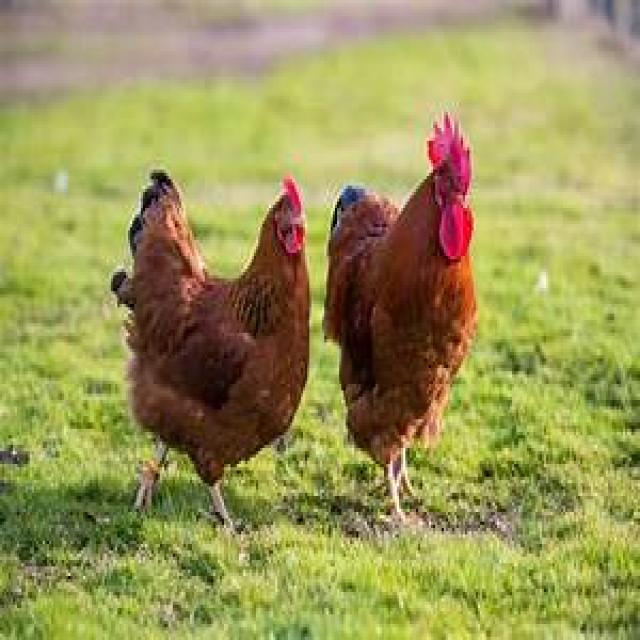hen: (111, 166, 311, 534), (324, 115, 480, 525)
